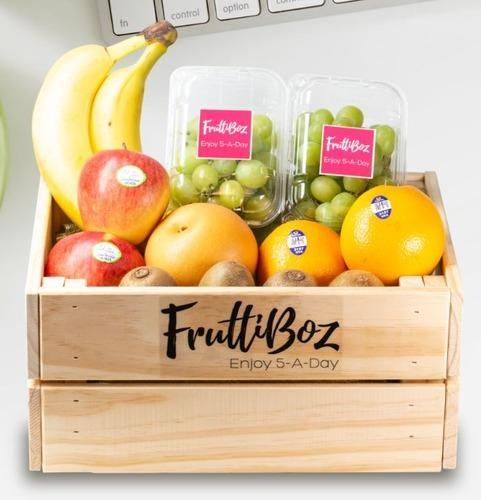apple: (77, 149, 172, 242), (44, 230, 146, 287)
